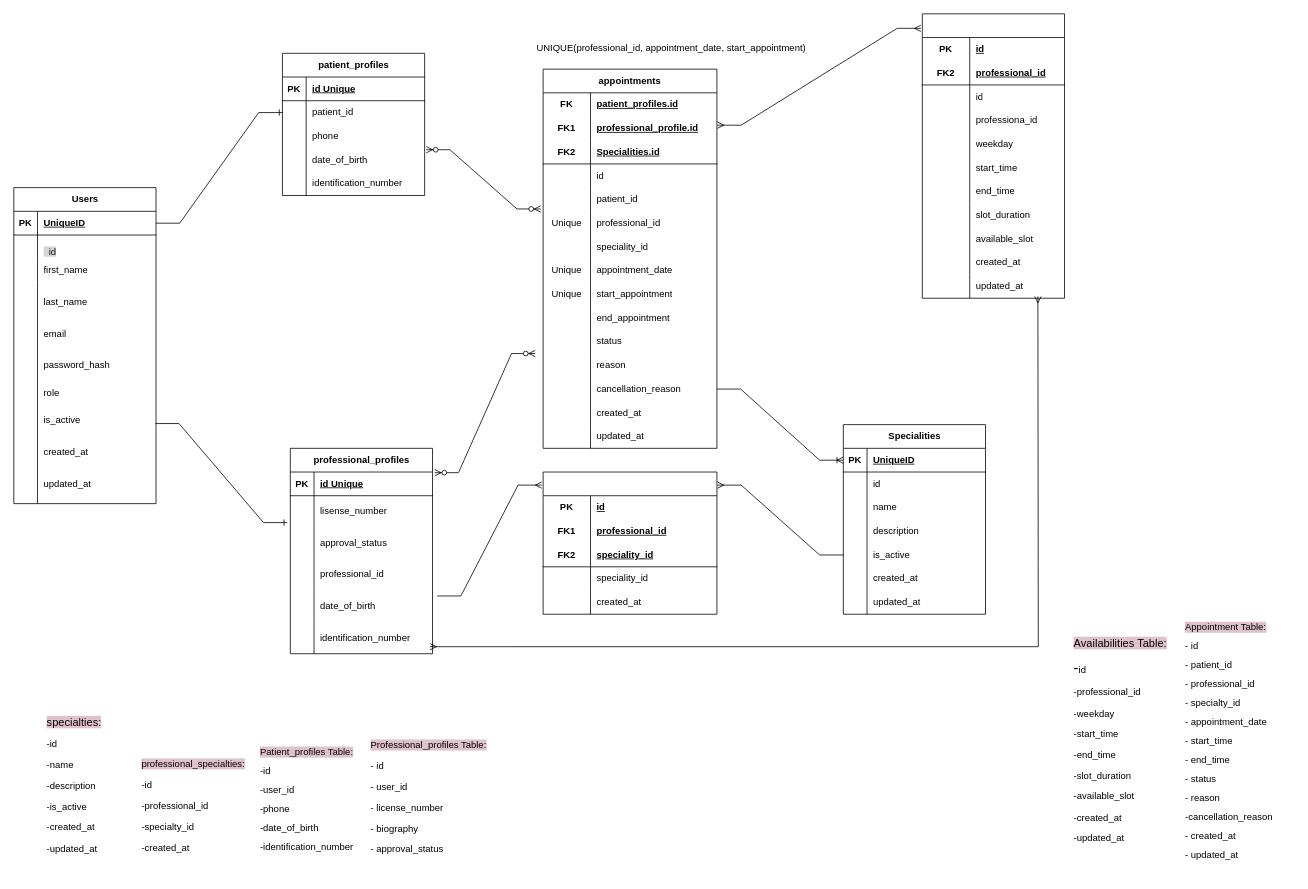
Some shapes in this 1308 by 889 pixel diagram are drawn without their labels. Here are the shapes that lost their labels. From the top down, the box of each, then its label:
(922, 13, 1065, 298): availability
(542, 471, 717, 614): professional_speciality
